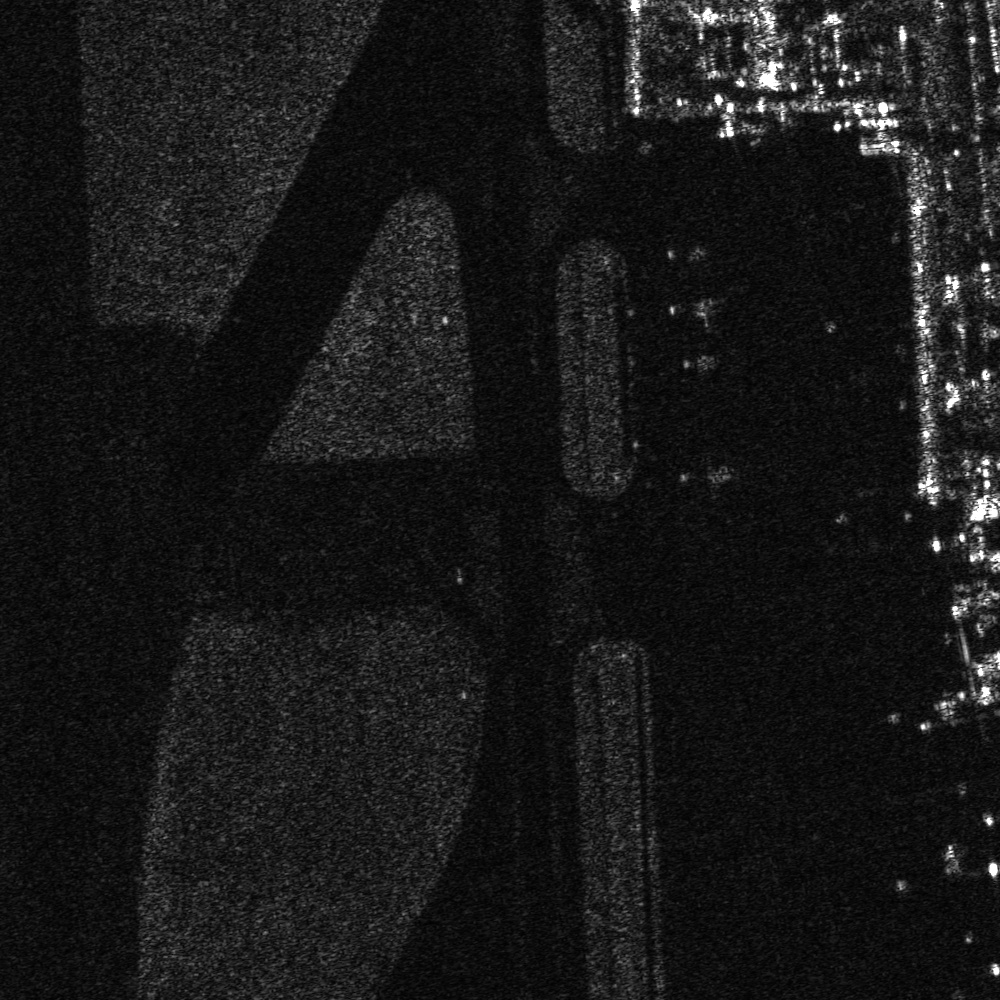ARJ21: (654, 288, 735, 339), (671, 342, 728, 383)
other: (674, 451, 743, 503), (662, 237, 718, 267)
